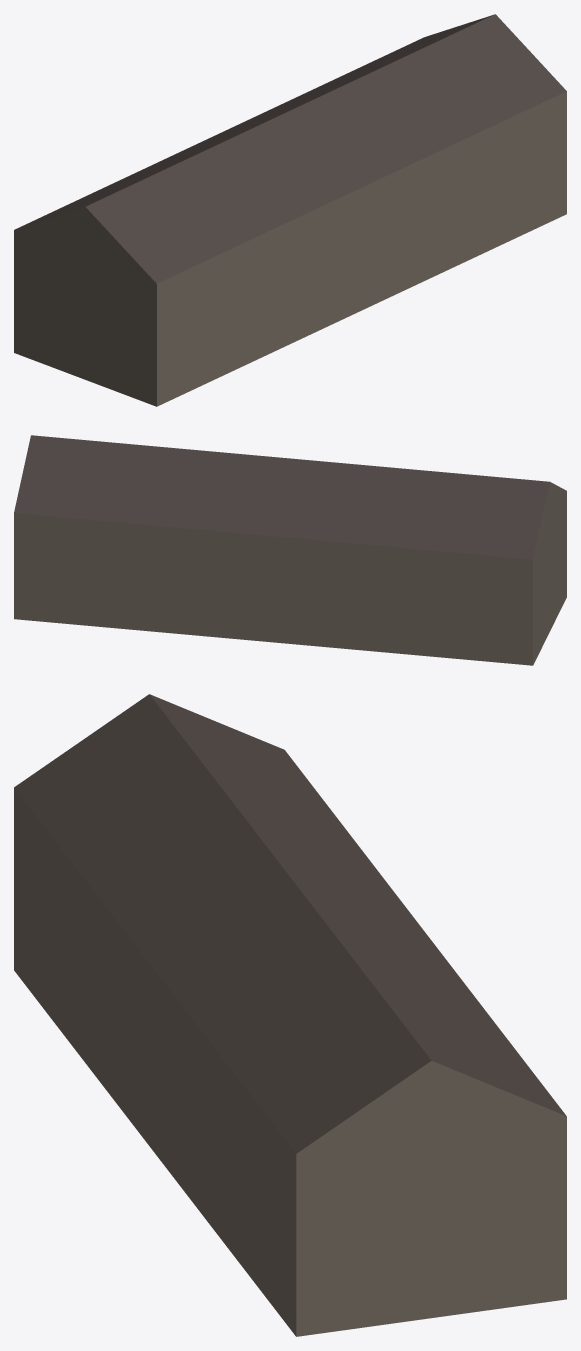
3 renders of one model, top to bottom at view 1: azimuth 30°, elevation 25°; view 2: azimuth 150°, elevation 25°; view 3: azimuth 270°, elevation 25°, orthographic. The views are drawn at different scales.
Visible parts, largest first — view 1: HP-w408450688; view 2: HP-w408450688; view 3: HP-w408450688.
Part boxes in pixels (<box>): HP-w408450688: <box>14,14,566,406</box>; HP-w408450688: <box>14,435,566,665</box>; HP-w408450688: <box>14,694,566,1336</box>.
Bounding box in the file's own units: 28.44 × 8.45 × 16.44.
